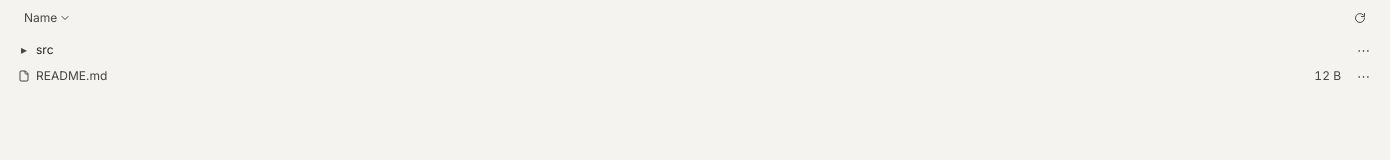
Test: FilesSurface › shows a failed refresh once, above the list that stays
The image size is (1390, 160).
Click the button with class "workspace-files-refresh" at (1360, 18), box top-left (1348, 6), bottom-right (1372, 30)
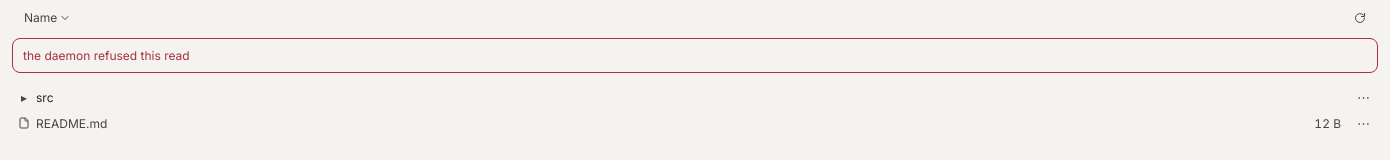
Result: the message "the daemon refused this read" is shown at top-left (12, 38), bottom-right (1378, 73)
